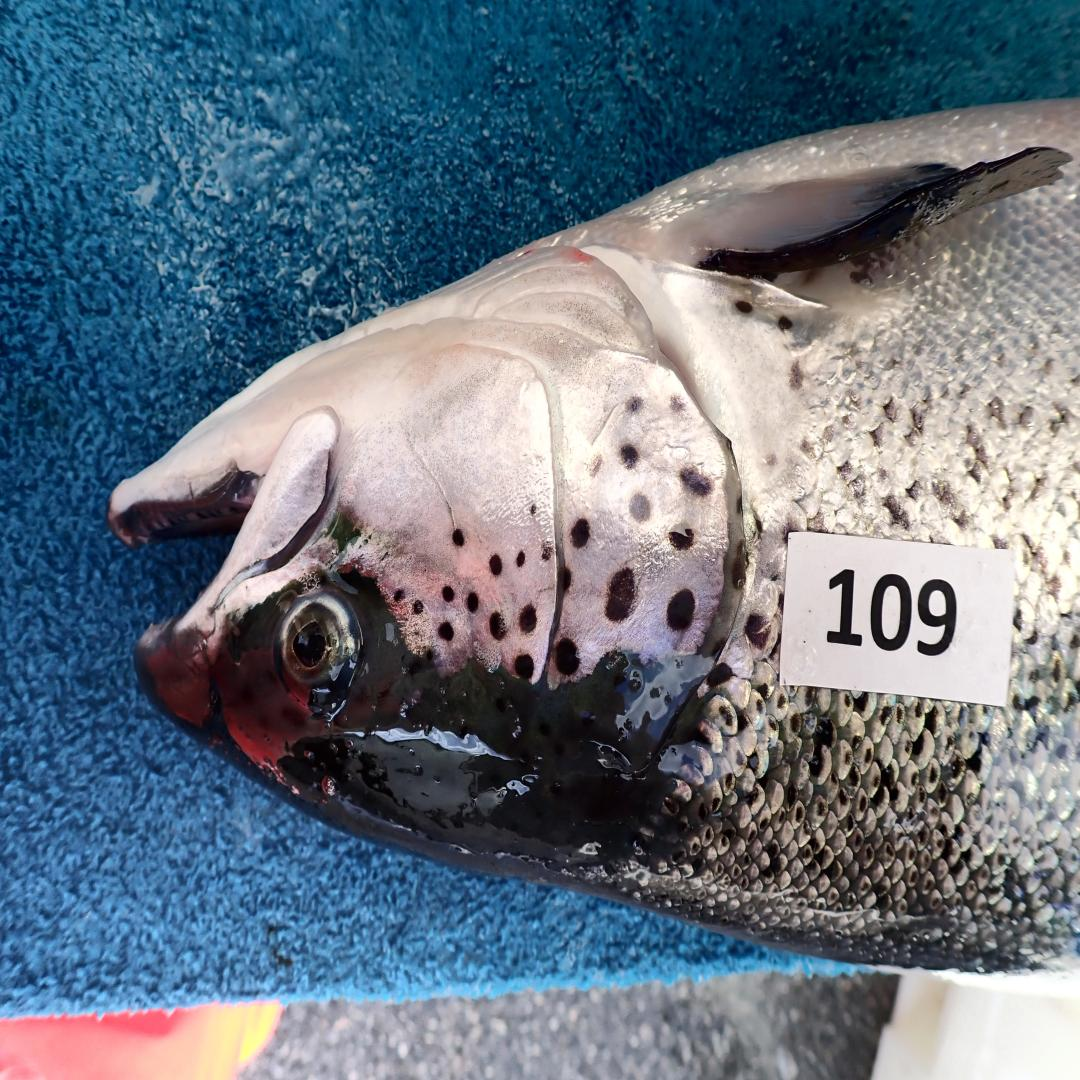spot: (605, 568, 637, 622), (667, 588, 696, 630), (679, 467, 713, 498), (555, 638, 580, 675), (730, 540, 747, 588), (669, 526, 694, 551), (572, 518, 591, 548), (631, 495, 650, 523), (515, 655, 534, 681), (519, 605, 536, 633), (620, 444, 639, 467), (586, 453, 603, 478), (489, 613, 506, 638), (540, 538, 554, 562), (489, 554, 502, 577), (466, 591, 479, 613), (439, 622, 454, 641), (626, 397, 643, 413), (671, 397, 686, 413), (563, 565, 572, 591), (451, 529, 464, 546), (392, 588, 405, 605), (443, 585, 454, 602), (515, 551, 525, 568), (413, 599, 424, 613), (529, 503, 538, 515)
